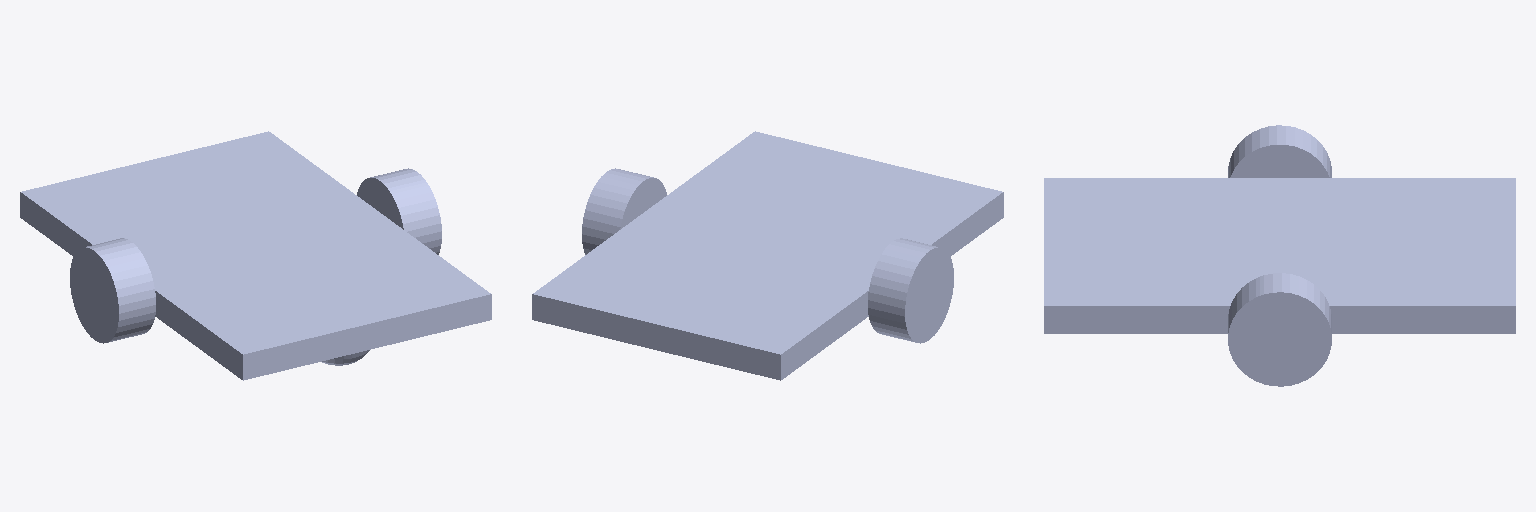
URDF robot description (basic_robot):
<?xml version="1.0" encoding="utf-8"?>
<!-- This URDF was automatically created by SolidWorks to URDF Exporter! Originally created by [author] ([email redacted]) 
     Commit Version: 1.6.0-4-g7f85cfe  Build Version: 1.6.7995.38578
     For more information, please see http://wiki.ros.org/sw_urdf_exporter -->
<robot
  name="basic_robot">
  <link
    name="base_link">
    <inertial>
      <origin
        xyz="-1.23163753414524E-18 -0.00142904605635004 0.0084652006694842"
        rpy="0 0 0" />
      <mass
        value="19.9441432965277" />
      <inertia
        ixx="1.0229085885449"
        ixy="-7.11027123719335E-19"
        ixz="-6.16455483911119E-17"
        iyy="1.42062681903663"
        iyz="0.00795279853090154"
        izz="0.40874621107173" />
    </inertial>
    <visual>
      <origin
        xyz="0 0 0"
        rpy="0 0 0" />
      <geometry>
        <mesh
          filename="package://basic_robot/meshes/base_link.STL" />
      </geometry>
      <material
        name="">
        <color
          rgba="0.792156862745098 0.819607843137255 0.933333333333333 1" />
      </material>
    </visual>
    <collision>
      <origin
        xyz="0 0 0"
        rpy="0 0 0" />
      <geometry>
        <mesh
          filename="package://basic_robot/meshes/base_link.STL" />
      </geometry>
    </collision>
  </link>
  <link
    name="left_wheel">
    <inertial>
      <origin
        xyz="0.0378117109773606 -6.0295845981129E-18 -1.42159100765935E-17"
        rpy="0 0 0" />
      <mass
        value="1.74157232169633" />
      <inertia
        ixx="0.00636997012296138"
        ixy="1.39593629656552E-19"
        ixz="4.54127695021518E-19"
        iyy="0.00403103556618679"
        iyz="4.06934397477606E-19"
        izz="0.00403103556618679" />
    </inertial>
    <visual>
      <origin
        xyz="0 0 0"
        rpy="0 0 0" />
      <geometry>
        <mesh
          filename="package://basic_robot/meshes/left_wheel.STL" />
      </geometry>
      <material
        name="">
        <color
          rgba="0.792156862745098 0.819607843137255 0.933333333333333 1" />
      </material>
    </visual>
    <collision>
      <origin
        xyz="0 0 0"
        rpy="0 0 0" />
      <geometry>
        <mesh
          filename="package://basic_robot/meshes/left_wheel.STL" />
      </geometry>
    </collision>
  </link>
  <joint
    name="left_wheel_joint"
    type="continuous">
    <origin
      xyz="0.325 0 0"
      rpy="0 0 3.1416" />
    <parent
      link="base_link" />
    <child
      link="left_wheel" />
    <axis
      xyz="1 0 0" />
  </joint>
  <link
    name="right_wheel">
    <inertial>
      <origin
        xyz="5.47124691768876E-18 1.42232054923799E-17 -0.0378117109773606"
        rpy="0 0 0" />
      <mass
        value="1.74157232169633" />
      <inertia
        ixx="0.00403103556618679"
        ixy="5.41824394327853E-19"
        ixz="1.24528589982855E-19"
        iyy="0.00403103556618679"
        iyz="4.54515487317607E-19"
        izz="0.00636997012296138" />
    </inertial>
    <visual>
      <origin
        xyz="0 0 0"
        rpy="0 0 0" />
      <geometry>
        <mesh
          filename="package://basic_robot/meshes/right_wheel.STL" />
      </geometry>
      <material
        name="">
        <color
          rgba="0.792156862745098 0.819607843137255 0.933333333333333 1" />
      </material>
    </visual>
    <collision>
      <origin
        xyz="0 0 0"
        rpy="0 0 0" />
      <geometry>
        <mesh
          filename="package://basic_robot/meshes/right_wheel.STL" />
      </geometry>
    </collision>
  </link>
  <joint
    name="right_wheel_joint"
    type="continuous">
    <origin
      xyz="-0.325 0 0"
      rpy="1.5708 0 -1.5708" />
    <parent
      link="base_link" />
    <child
      link="right_wheel" />
    <axis
      xyz="0 0 -1" />
  </joint>
</robot>

--- Facts derived from the render (not from the file) ---
3 views of the same robot in one strip: view 1: azimuth 30°, elevation 25°; view 2: azimuth 150°, elevation 25°; view 3: azimuth 270°, elevation 25° (orthographic).
Robot: basic_robot — 3 links, 2 joints (2 continuous); root link base_link; default pose: all joints at 0.
Visible links, largest first — view 1: base_link, right_wheel, left_wheel; view 2: base_link, right_wheel, left_wheel; view 3: base_link, left_wheel, right_wheel.
Boxes of the visible links, x1,y1,x2,y2 form: base_link: [20, 131, 491, 380]; right_wheel: [70, 238, 155, 343]; left_wheel: [357, 168, 441, 254]; base_link: [532, 131, 1003, 380]; right_wheel: [868, 238, 953, 343]; left_wheel: [582, 168, 666, 254]; base_link: [1044, 178, 1515, 333]; left_wheel: [1228, 273, 1331, 386]; right_wheel: [1228, 125, 1331, 177].
Bounding box of the posed robot: 0.65 × 0.775 × 0.1715 m (x, y, z).
3 mesh visuals loaded from 3 distinct referenced files (3 binary STL).